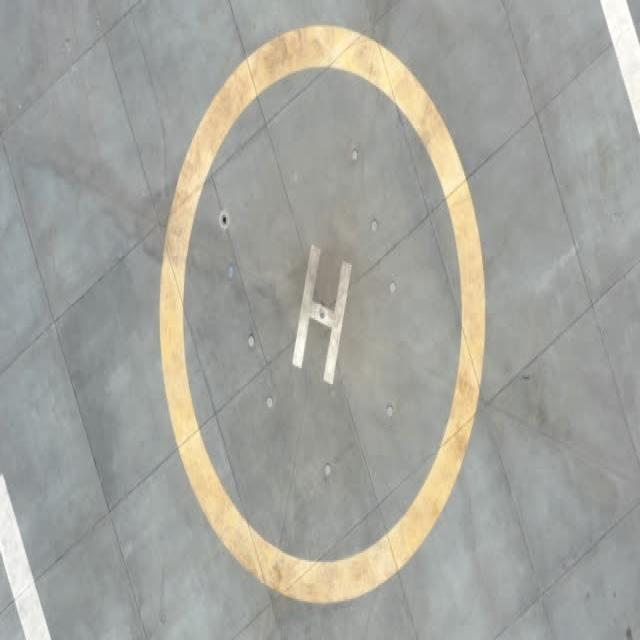helipad: (149, 12, 490, 610)
